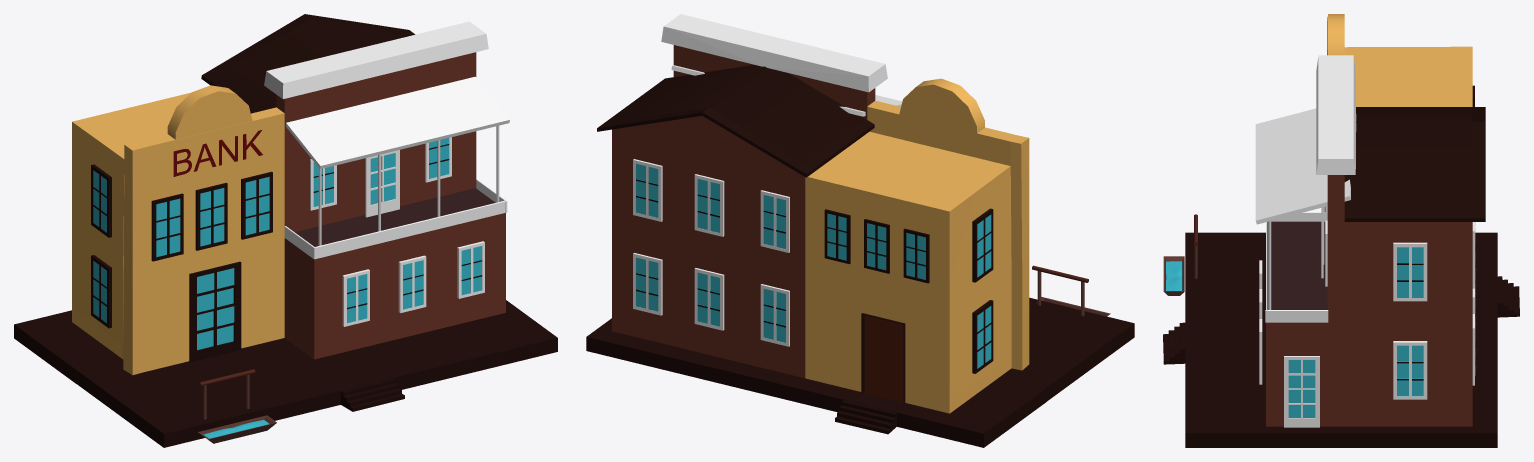
File: Domek.FBX
The picture shows the model from 3 angles, left to right: view 1: azimuth 30°, elevation 25°; view 2: azimuth 150°, elevation 25°; view 3: azimuth 270°, elevation 25°; orthographic projection. The views are drawn at different scales.
Parts seen in each view (by area): view 1: Box002, Podstawka001, Plane011, FixedWindow044, Podstawka002, Plane015, Cylinder013, Plane012, FixedWindow042, FixedWindow045, FixedWindow043, FixedWindow029 (+9 smaller); view 2: Box002, Podstawka002, Podstawka001, Cylinder013, Box003, FixedWindow021, FixedWindow024, FixedWindow020, FixedWindow023, FixedWindow025, FixedWindow022, FixedWindow046 (+4 smaller); view 3: Box002, Podstawka001, Podstawka002, Plane011, Plane015, FixedWindow032, FixedWindow019, FixedWindow018, Plane013, Cylinder013, Box005, Box004 (+2 smaller).
Boxes of the visible parts, x1,y1,x2,y2 form: Box002: (72, 14, 505, 375); Podstawka001: (74, 300, 557, 447); Plane011: (286, 76, 509, 169); FixedWindow044: (189, 261, 241, 362); Podstawka002: (14, 310, 122, 383); Plane015: (295, 188, 495, 246); Cylinder013: (167, 85, 252, 139); Plane012: (315, 200, 505, 258); FixedWindow042: (151, 193, 183, 261); FixedWindow045: (195, 182, 227, 250); FixedWindow043: (241, 171, 272, 239); FixedWindow029: (365, 150, 399, 217); Box002: (597, 14, 1029, 413); Podstawka002: (586, 318, 1046, 447); Podstawka001: (997, 297, 1134, 401); Cylinder013: (898, 78, 984, 156); Box003: (861, 313, 905, 403); FixedWindow021: (694, 174, 724, 236); FixedWindow024: (694, 268, 724, 330); FixedWindow020: (633, 159, 662, 221); FixedWindow023: (633, 253, 662, 315); FixedWindow025: (760, 284, 789, 346); FixedWindow022: (760, 190, 789, 252); FixedWindow046: (972, 208, 993, 282); Box002: (1266, 16, 1485, 426); Podstawka001: (1163, 232, 1375, 447); Podstawka002: (1375, 232, 1519, 447); Plane011: (1255, 108, 1350, 224); Plane015: (1267, 221, 1327, 309); FixedWindow032: (1284, 356, 1319, 427); FixedWindow019: (1393, 242, 1427, 301); FixedWindow018: (1393, 341, 1427, 399); Plane013: (1265, 310, 1328, 322); Cylinder013: (1328, 14, 1344, 55); Box005: (1166, 261, 1182, 290); Box004: (1163, 256, 1184, 295).
Size of the model in its own units: 226 by 152 by 170.
